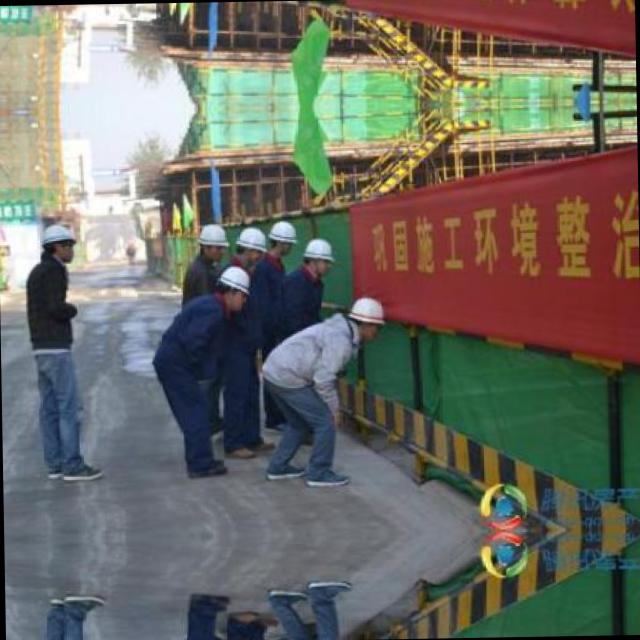helmet: (349, 294, 388, 338), (40, 218, 78, 262), (216, 266, 251, 310), (301, 238, 337, 279), (192, 222, 230, 260), (266, 217, 298, 254), (236, 227, 268, 264)
